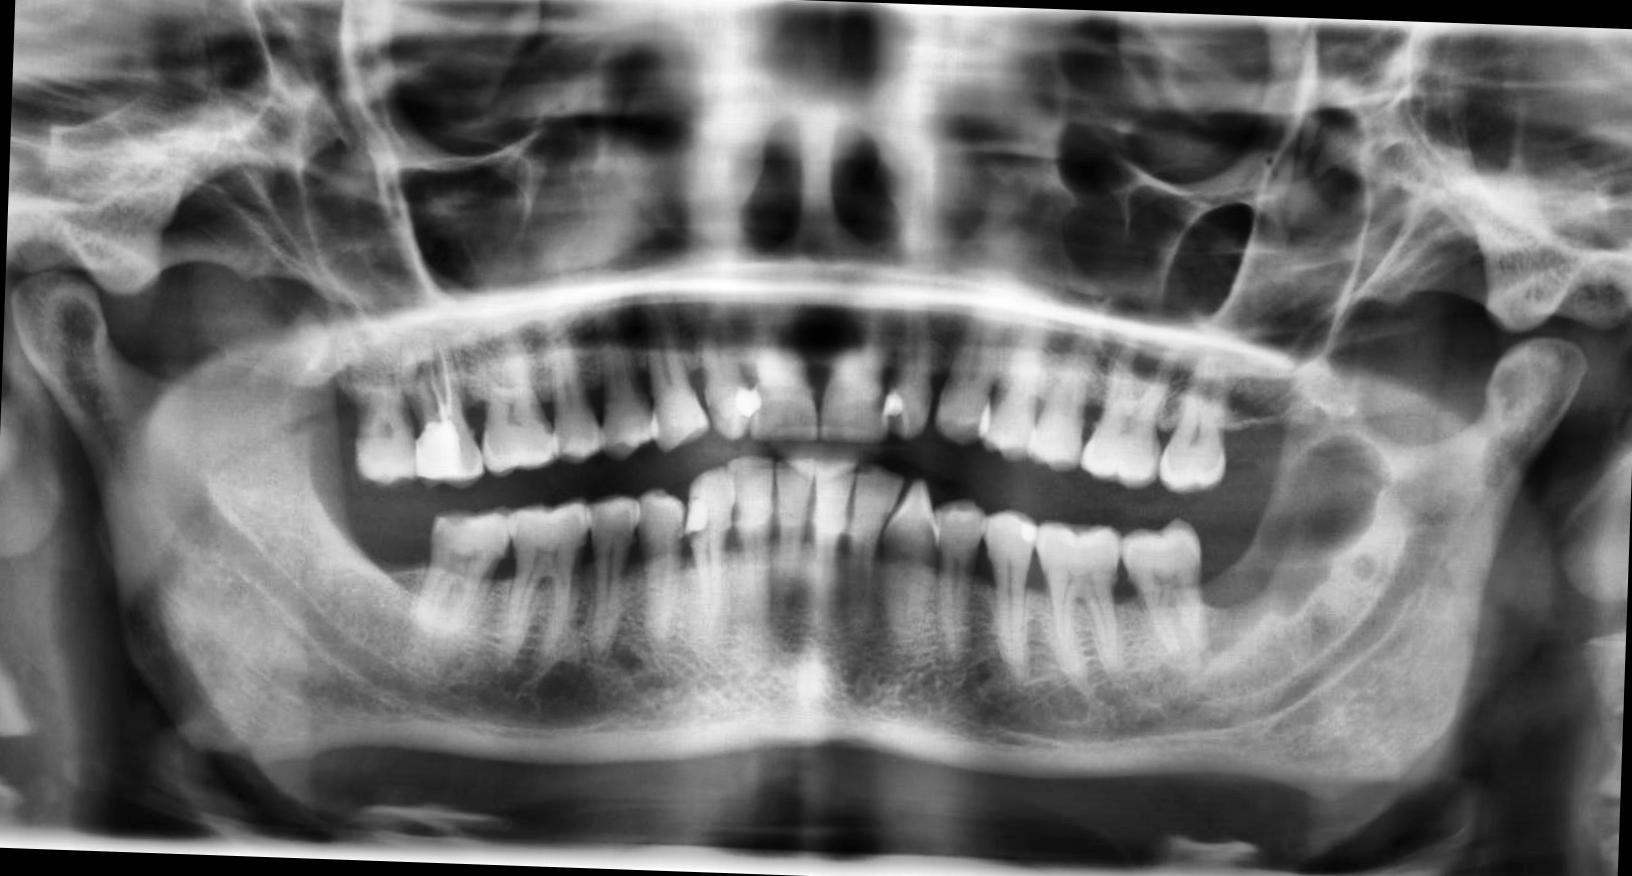okc: (1197, 424, 1396, 666)
